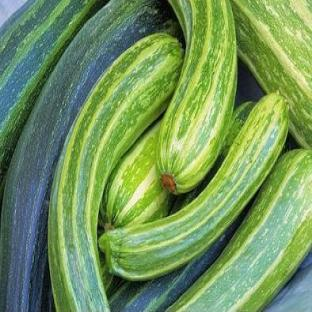Zucchini: (48, 34, 182, 310), (99, 94, 288, 279), (168, 150, 311, 310), (109, 209, 247, 311), (172, 101, 254, 213), (104, 120, 173, 229), (266, 264, 311, 311)
